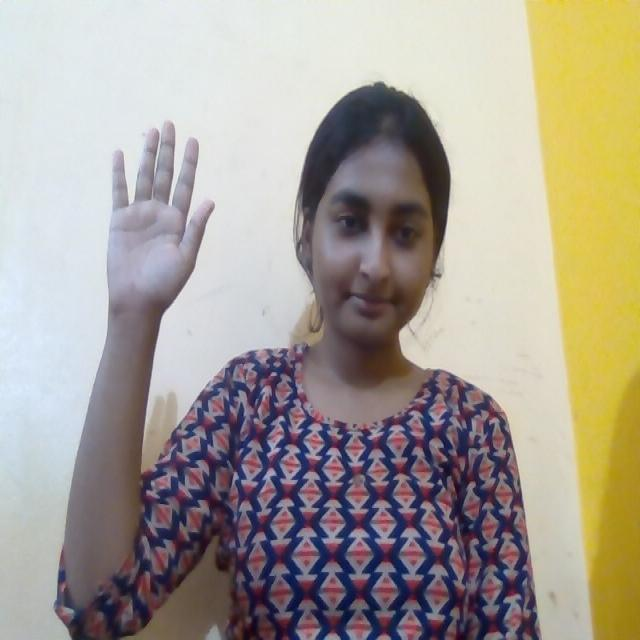Hello: (98, 101, 231, 318)
